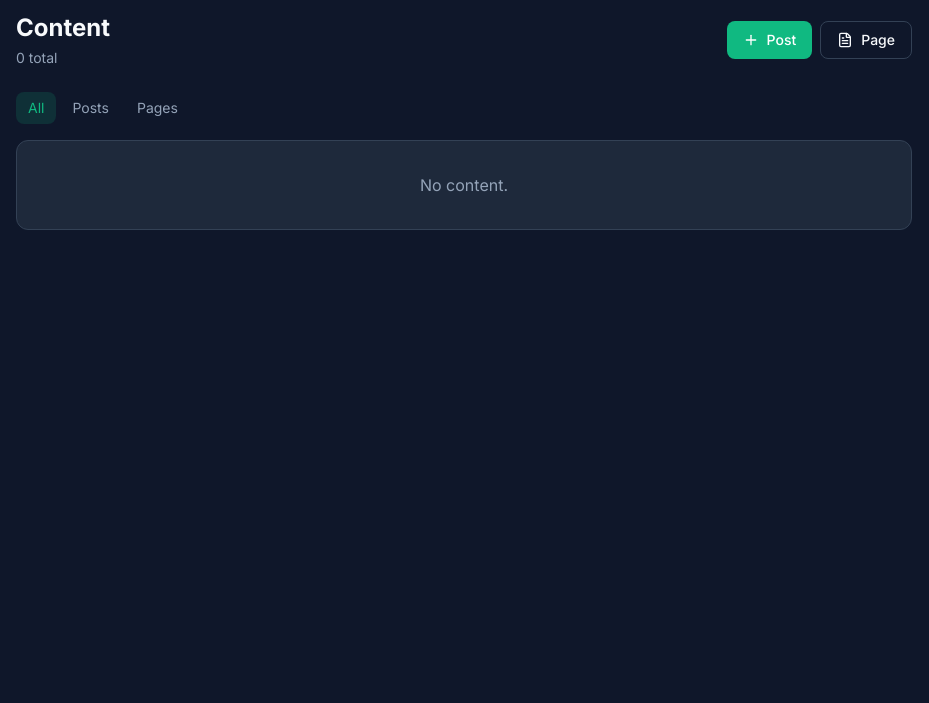
Test case: Content settings page › create content › opens create form when "Post" is clicked
Expected: the heading "Content" is shown, [16, 12, 110, 44]
Click the button "Post" at (769, 40), box [727, 21, 812, 59]
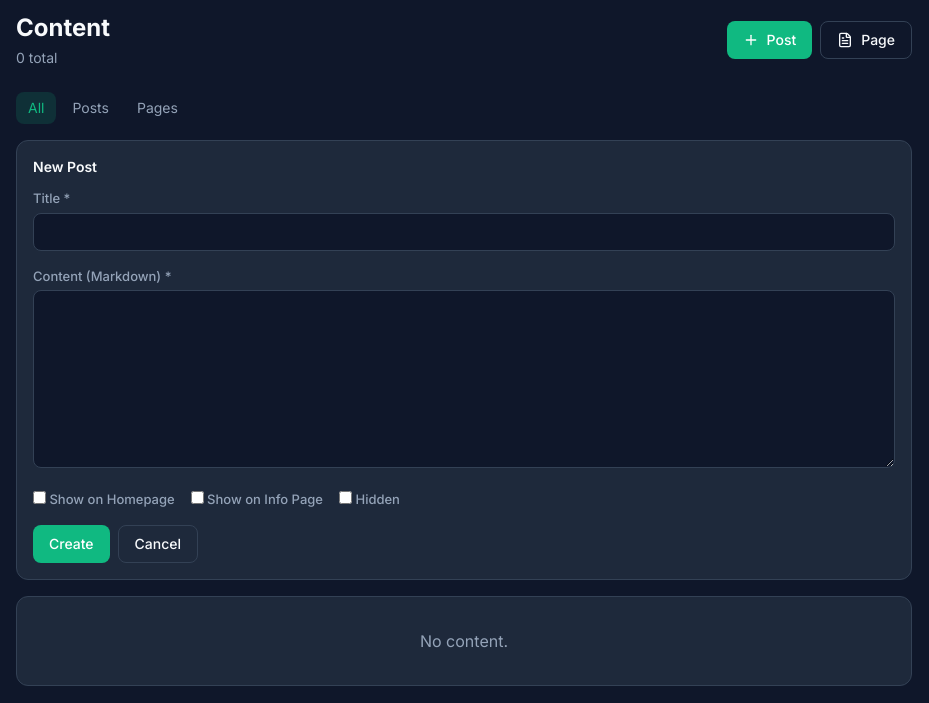
Now the heading "New Post" is shown, box [33, 158, 97, 175]
